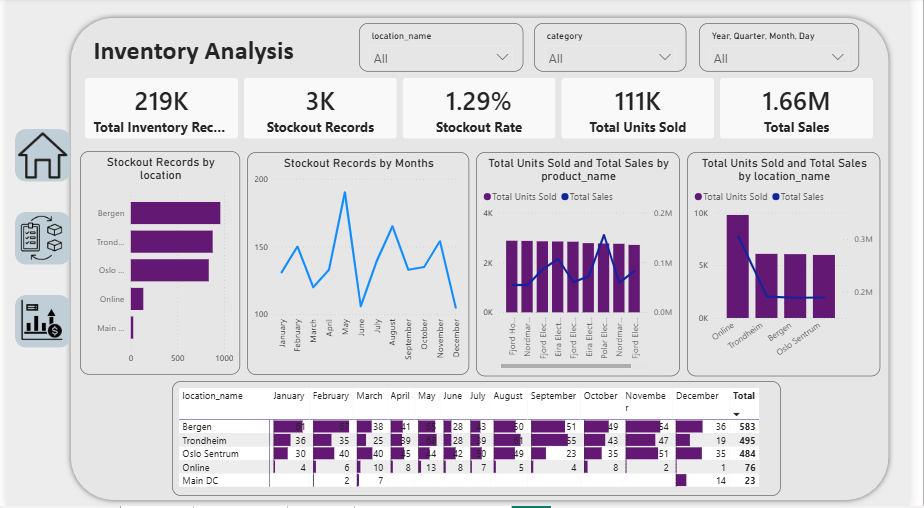

What the dashboard file says about the page in this screenshot:
{"tool":"powerbi","page":{"name":"Inventory","canvas":[1280,720],"ordinal":1},"visuals":[{"type":"shape","box":[84,19.8,1175.3,700],"z":0},{"type":"cardVisual","fields":{"Data":["Measure.Total Inventory Records","Measure.Stockout Records","Measure.Stockout Rate","Measure.Total Qty Sold","Measure.Total Revenue"]},"box":[95.1,96.3,1153.1,121],"z":1000},{"type":"textbox","box":[119.1,45.4,422.4,70.9],"z":2000},{"type":"slicer","fields":{"Values":["dim_date.Date.Variation.Date Hierarchy.Year","dim_date.Date.Variation.Date Hierarchy.Quarter","dim_date.Date.Variation.Date Hierarchy.Month","dim_date.Date.Variation.Date Hierarchy.Day"]},"box":[982.2,35.6,226.7,68.9],"z":3000},{"type":"clusteredBarChart","title":"Stockout Records by location","fields":{"Y":["Measure.Stockout"],"Category":["silver__location_master__lite.location_name"]},"box":[104.9,217.3,227.2,317.3],"z":4000},{"type":"lineChart","title":"Stockout Records by Months","fields":{"Category":["dim_date.Date.Variation.Date Hierarchy.Month"],"Y":["Measure.Stockout"]},"box":[341.9,217.6,314.9,316.2],"z":5000},{"type":"pivotTable","fields":{"Rows":["silver__location_master__lite.location_name"],"Columns":["dim_date.Date.Variation.Date Hierarchy.Year","dim_date.Date.Variation.Date Hierarchy.Quarter","dim_date.Date.Variation.Date Hierarchy.Month"],"Values":["Measure.Stockout"]},"box":[235,543.3,863.3,163.3],"z":6000},{"type":"lineStackedColumnComboChart","fields":{"Category":["silver__location_master__lite.location_name"],"Y2":["Measure.Total Revenue"],"Y":["Measure.Total Qty Sold"]},"box":[964.9,217.6,274.3,317.6],"z":7000},{"type":"lineStackedColumnComboChart","fields":{"Category":["silver__product_master__lite.product_name"],"Y":["Measure.Total Qty Sold"],"Y2":["Measure.Total Revenue"]},"box":[666.2,217.6,289.2,317.6],"z":8000},{"type":"shape","box":[12.7,186.1,78.5,74.7],"z":9000},{"type":"image","box":[16.5,186.1,69.6,74.7],"z":10000},{"type":"shape","box":[12.7,303.2,78.5,74.7],"z":11000},{"type":"image","box":[12.7,307.6,74.7,64.6],"z":12000},{"type":"shape","box":[12.7,420.3,78.5,74.7],"z":13000},{"type":"image","box":[10.1,426.6,82.3,59.5],"z":14000},{"type":"slicer","fields":{"Values":["product.category"]},"box":[748.9,35.6,215.6,68.9],"z":15000},{"type":"slicer","fields":{"Values":["location.location_name"]},"box":[500,35.6,233.3,68.9],"z":16000}]}

Visuals, with their boxes on the page's 1280x720 design canvas (x1, y1, x2, y2). These are canvas units, not pixel positions in the 924x508 screenshot, which may show the page scaled, cropped or inside an application window:
shape: crop(84, 20, 1259, 720)
cardVisual - Measure.Total Inventory Records x Measure.Stockout Records: crop(95, 96, 1248, 217)
textbox: crop(119, 45, 542, 116)
slicer - dim_date.Date.Variation.Date Hierarchy.Year x dim_date.Date.Variation.Date Hierarchy.Quarter: crop(982, 36, 1209, 104)
"Stockout Records by location" clusteredBarChart: crop(105, 217, 332, 535)
"Stockout Records by Months" lineChart: crop(342, 218, 657, 534)
pivotTable - silver__location_master__lite.location_name x dim_date.Date.Variation.Date Hierarchy.Year: crop(235, 543, 1098, 707)
lineStackedColumnComboChart - silver__location_master__lite.location_name x Measure.Total Revenue: crop(965, 218, 1239, 535)
lineStackedColumnComboChart - silver__product_master__lite.product_name x Measure.Total Qty Sold: crop(666, 218, 955, 535)
shape: crop(13, 186, 91, 261)
image: crop(16, 186, 86, 261)
shape: crop(13, 303, 91, 378)
image: crop(13, 308, 87, 372)
shape: crop(13, 420, 91, 495)
image: crop(10, 427, 92, 486)
slicer - product.category: crop(749, 36, 964, 104)
slicer - location.location_name: crop(500, 36, 733, 104)
